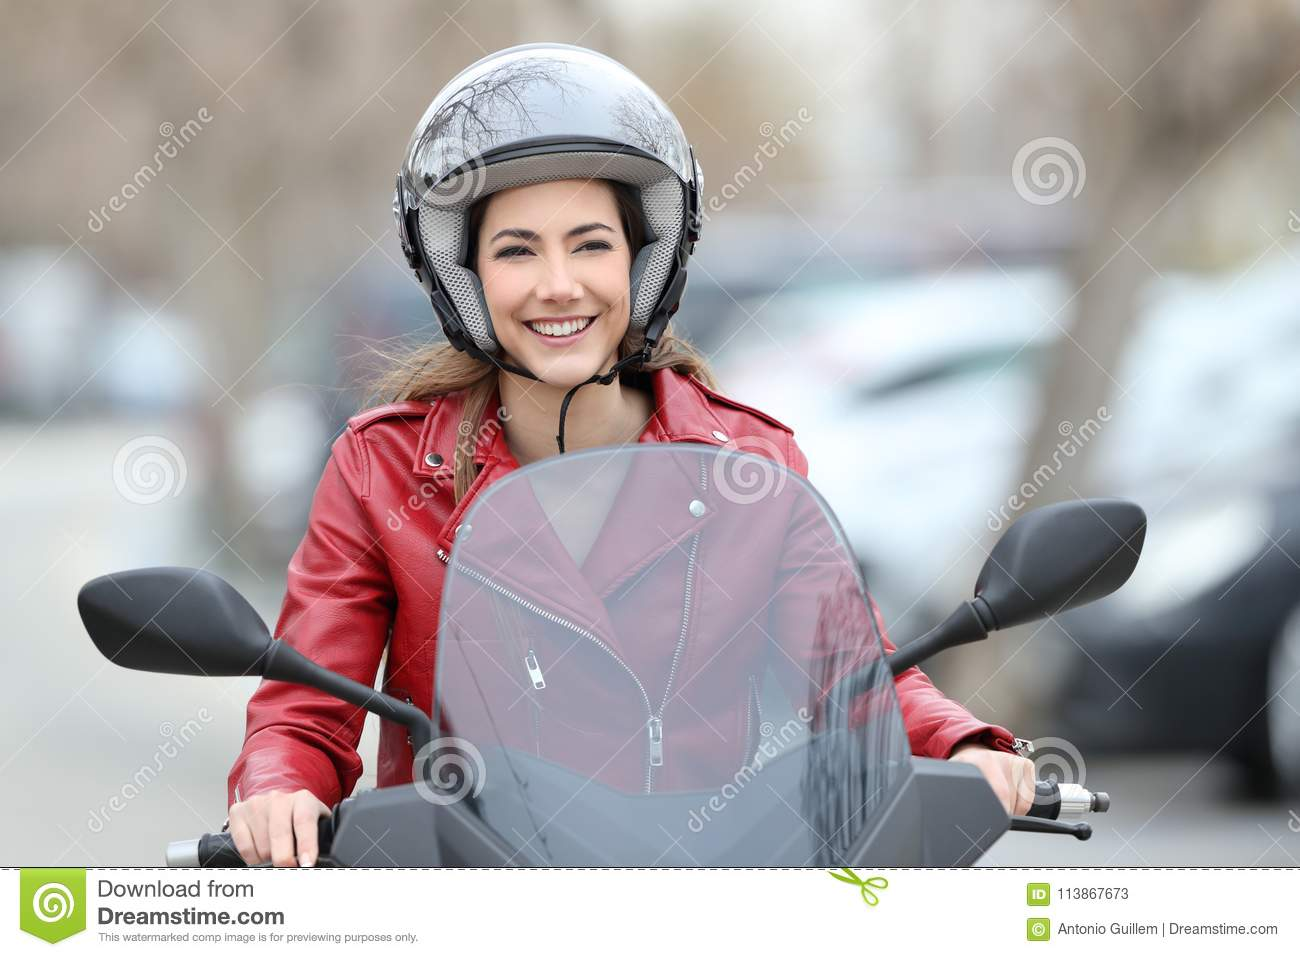helmet: (387, 69, 693, 341)
